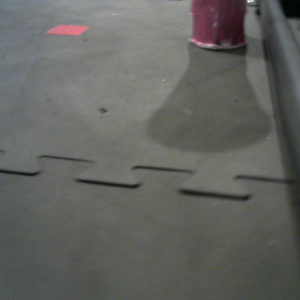Right: (189, 1, 248, 50)
